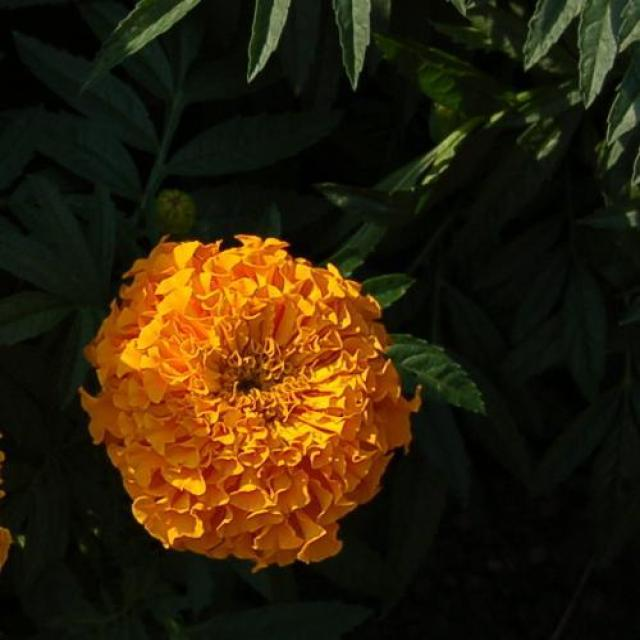marigold: (77, 218, 453, 568)
